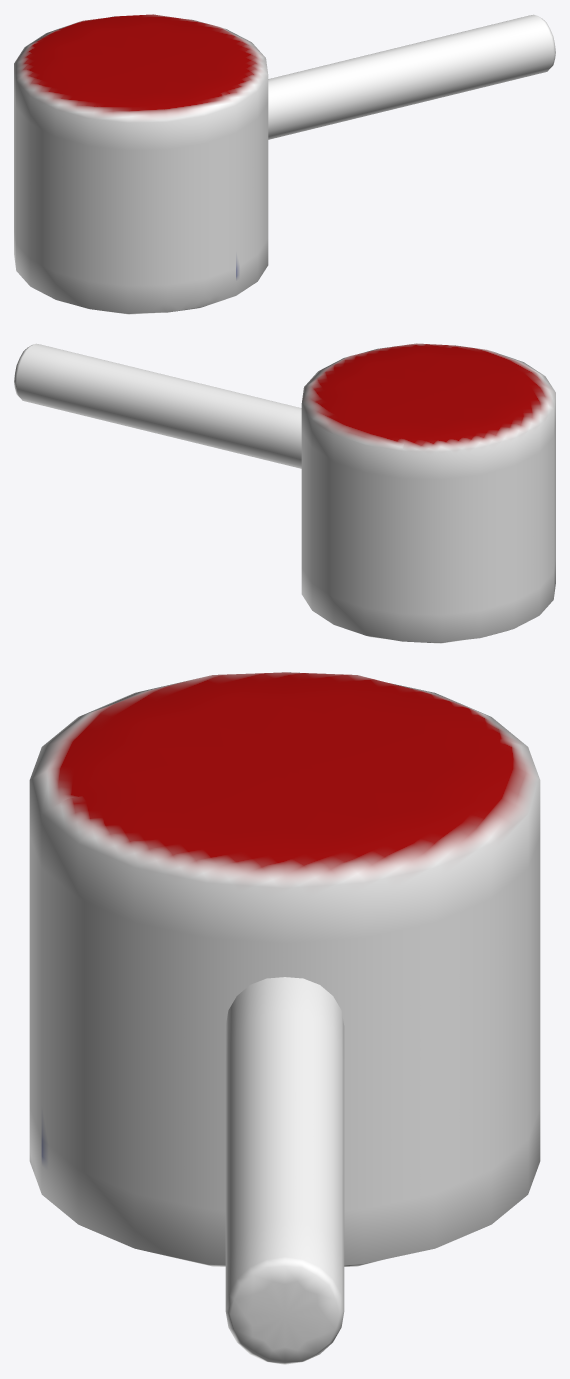
The model's file is Sink_Hot.fbx.
3 views of the same model, one above another, from view 1: azimuth 30°, elevation 25°; view 2: azimuth 150°, elevation 25°; view 3: azimuth 270°, elevation 25° (orthographic). The views are drawn at different scales.
Visible parts, largest first — view 1: polySurface5; view 2: polySurface5; view 3: polySurface5.
Part boxes in pixels (x1,y1,x2,y2): polySurface5: [14, 14, 555, 314]; polySurface5: [14, 343, 555, 643]; polySurface5: [29, 672, 540, 1364].
Bounding box in the file's own units: 1.65 × 0.6318 × 0.7118.
